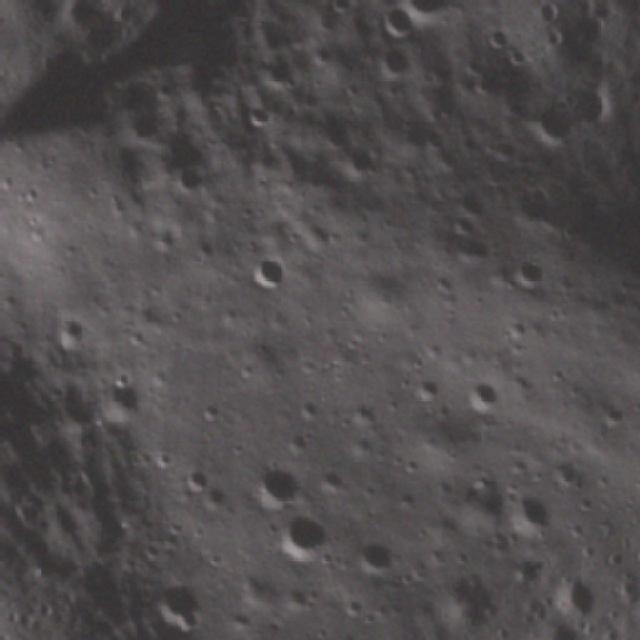crater: (264, 487, 350, 571), (142, 558, 225, 640), (231, 442, 312, 526), (492, 473, 568, 550), (493, 238, 559, 311), (521, 87, 584, 156), (449, 368, 516, 432), (357, 32, 421, 94), (235, 241, 294, 301), (347, 525, 405, 583), (160, 154, 214, 206), (367, 0, 424, 46), (496, 541, 547, 582), (387, 0, 461, 28)
